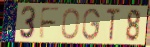3: (19, 5, 38, 41)
8: (124, 8, 142, 43)
F: (38, 6, 62, 41)
G: (81, 8, 102, 42)
O: (61, 7, 81, 41)
T: (105, 7, 122, 42)
